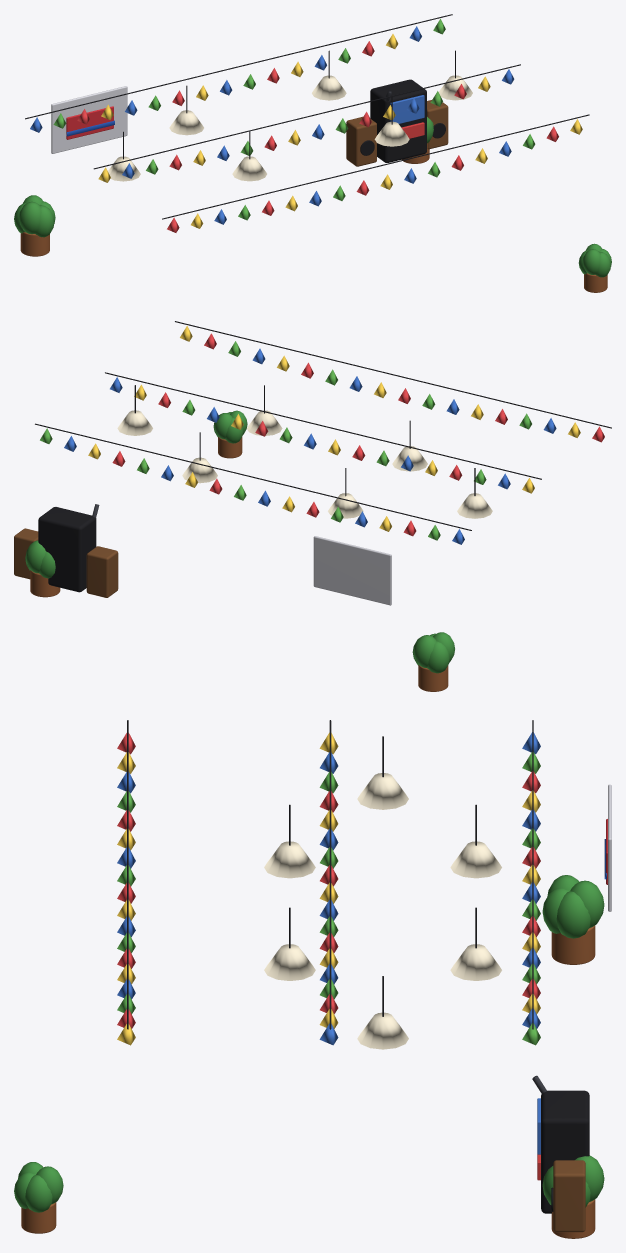
Rendered from decor.glb.
3 renders of one model, top to bottom at view 1: azimuth 30°, elevation 25°; view 2: azimuth 150°, elevation 25°; view 3: azimuth 270°, elevation 25°, orthographic. The views are drawn at different scales.
Visible parts, largest first — view 1: Poster, Videoke, PlantA, PlantC, Speaker, String, String.002, String.001, PosterJeep, Speaker.001, VScreen, Capiz.002 (+5 smaller); view 2: Poster, Videoke, PlantA, Speaker, PlantB, PlantC, String.001, String, String.002, Speaker.001, Capiz.004, Capiz.005 (+4 smaller); view 3: PlantA, Videoke, PlantC, Speaker.001, PlantB, Capiz, Capiz.002, Capiz.003, Capiz.004, Capiz.005, Capiz.001, String.001.
Part boxes in pixels (box(x1,y1,x2,y2)): Poster: box(51, 86, 127, 153); Videoke: box(370, 79, 426, 162); PlantA: box(14, 195, 55, 256); PlantC: box(578, 243, 611, 292); Speaker: box(346, 116, 376, 166); String: box(162, 114, 589, 219); String.002: box(25, 14, 452, 119); String.001: box(93, 64, 520, 169); PosterJeep: box(66, 106, 113, 139); Speaker.001: box(427, 100, 448, 149); VScreen: box(390, 95, 424, 123); Capiz.002: box(169, 110, 203, 135); Poster: box(313, 536, 391, 605); Videoke: box(38, 507, 96, 592); PlantA: box(412, 632, 454, 691); Speaker: box(86, 546, 118, 597); PlantB: box(25, 540, 60, 597); PlantC: box(213, 410, 247, 458); String.001: box(105, 372, 541, 479); String: box(175, 321, 611, 428); String.002: box(35, 423, 471, 530); Speaker.001: box(14, 528, 38, 579); Capiz.004: box(457, 493, 492, 518); Capiz.005: box(117, 410, 152, 435); PlantA: box(542, 875, 604, 964); Videoke: box(541, 1090, 589, 1213); PlantC: box(14, 1162, 63, 1233); Speaker.001: box(553, 1160, 585, 1232); PlantB: box(542, 1155, 604, 1238); Capiz: box(264, 841, 315, 878); Capiz.002: box(450, 841, 501, 878); Capiz.003: box(450, 944, 501, 980); Capiz.004: box(357, 773, 408, 809); Capiz.005: box(357, 1012, 408, 1049); Capiz.001: box(264, 944, 315, 980); String.001: box(329, 720, 331, 1029).
Bounding box in the file's own units: 9.07 × 3.23 × 7.38.
